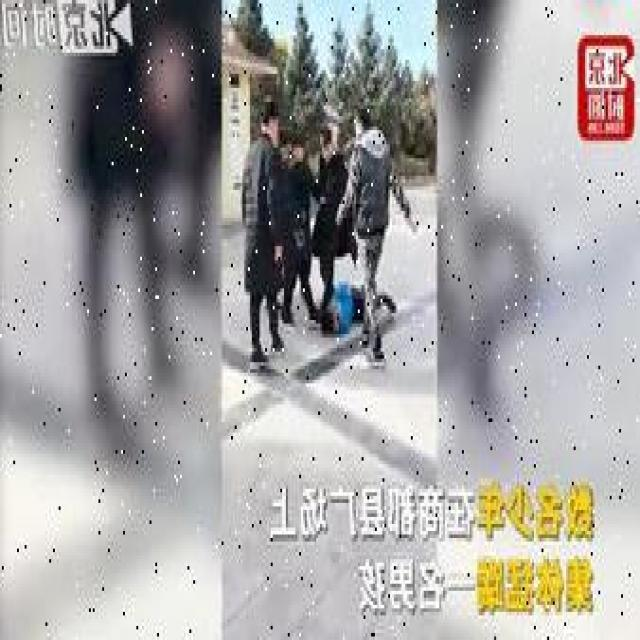fall: (316, 278, 402, 342)
